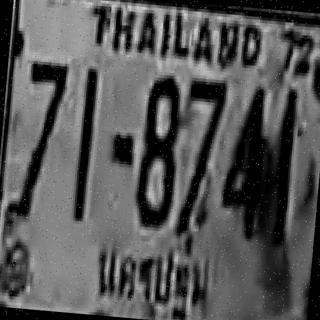N01: (70, 68, 98, 213)
N04: (218, 81, 268, 234)
N07: (176, 76, 226, 231), (19, 61, 69, 213)
N08: (132, 73, 184, 229)
P28: (85, 235, 216, 320)
